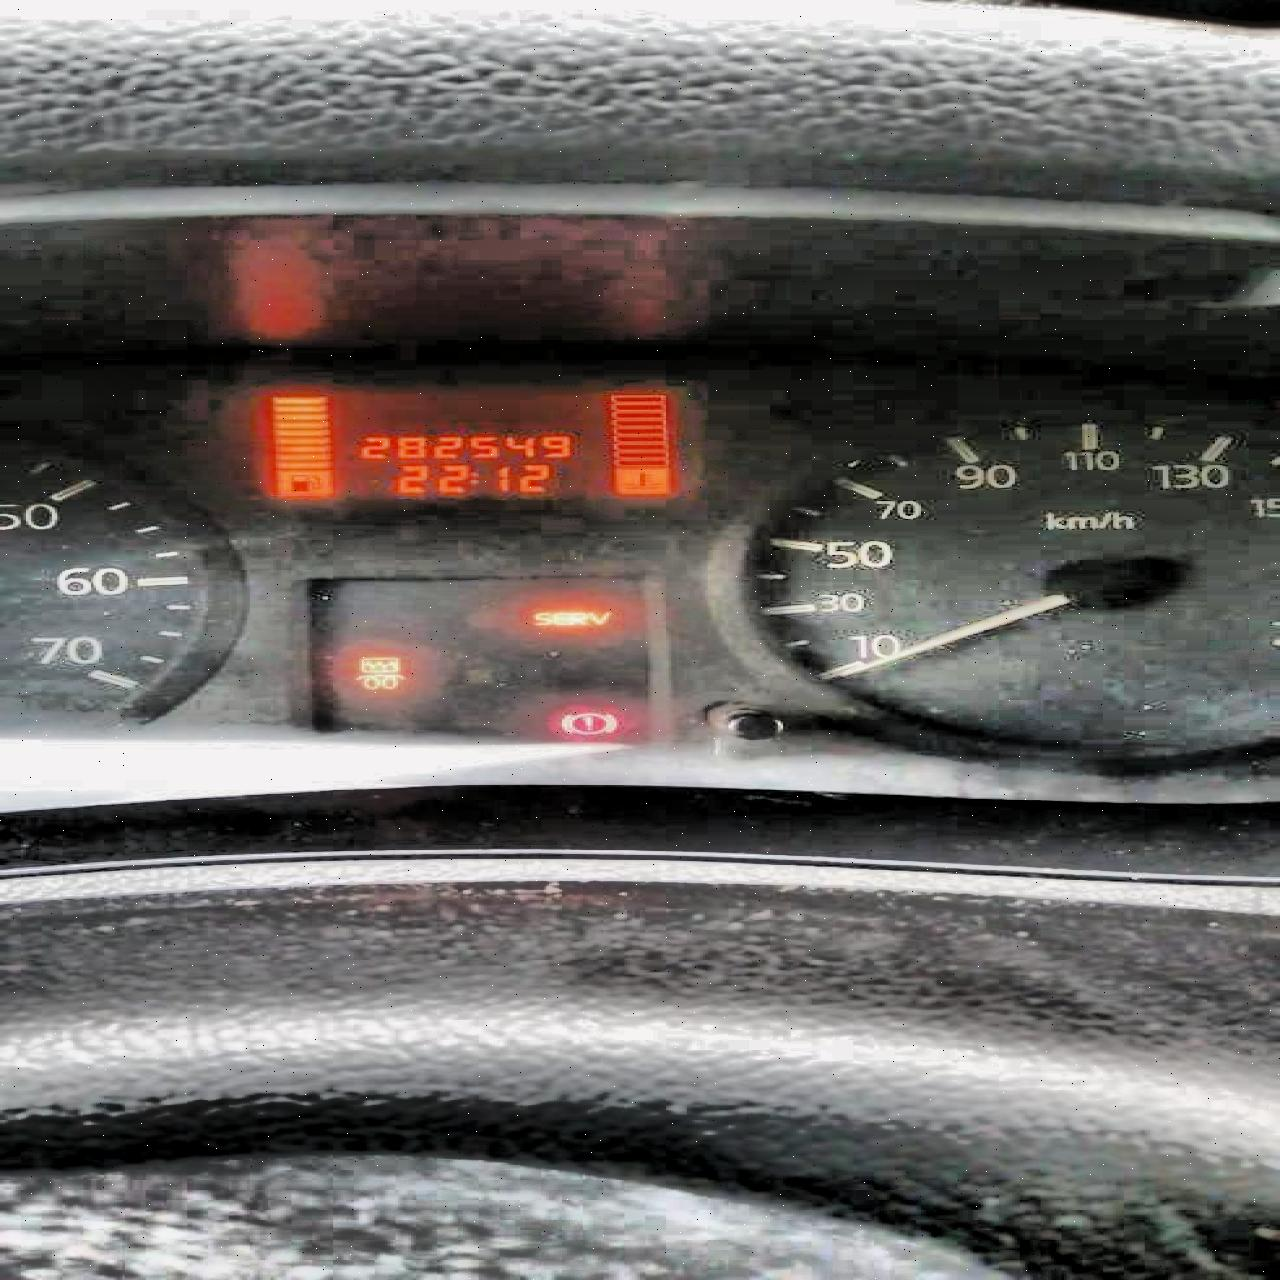1: (492, 464, 510, 491)
2: (431, 463, 468, 491), (515, 463, 549, 492), (390, 464, 427, 491), (356, 435, 390, 459), (429, 435, 461, 457)
4: (499, 435, 533, 457)
5: (467, 435, 497, 459)
8: (393, 435, 424, 459)
9: (536, 435, 570, 457)
X: (468, 469, 478, 485)
odometer: (234, 383, 695, 505)
